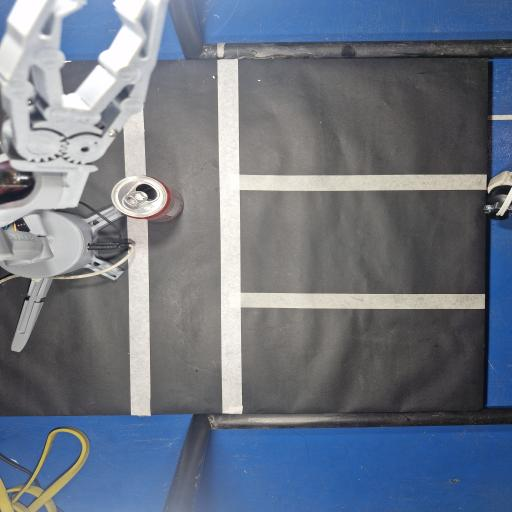lata: (112, 175, 183, 222)
